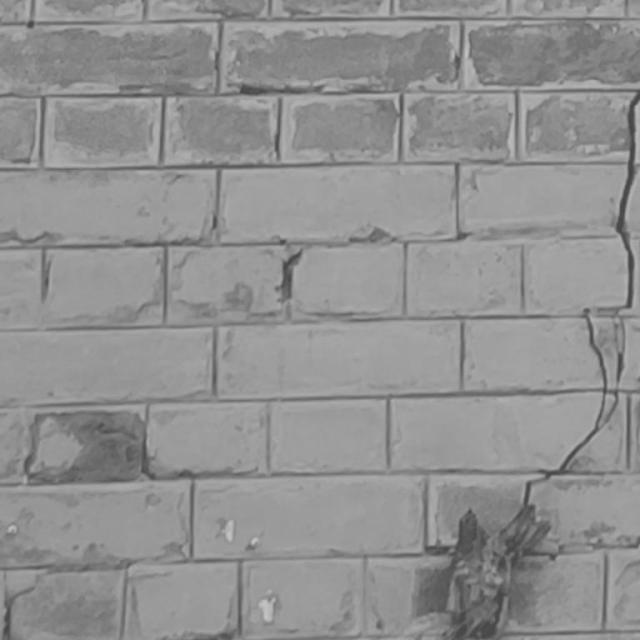crack: (524, 91, 639, 506)
